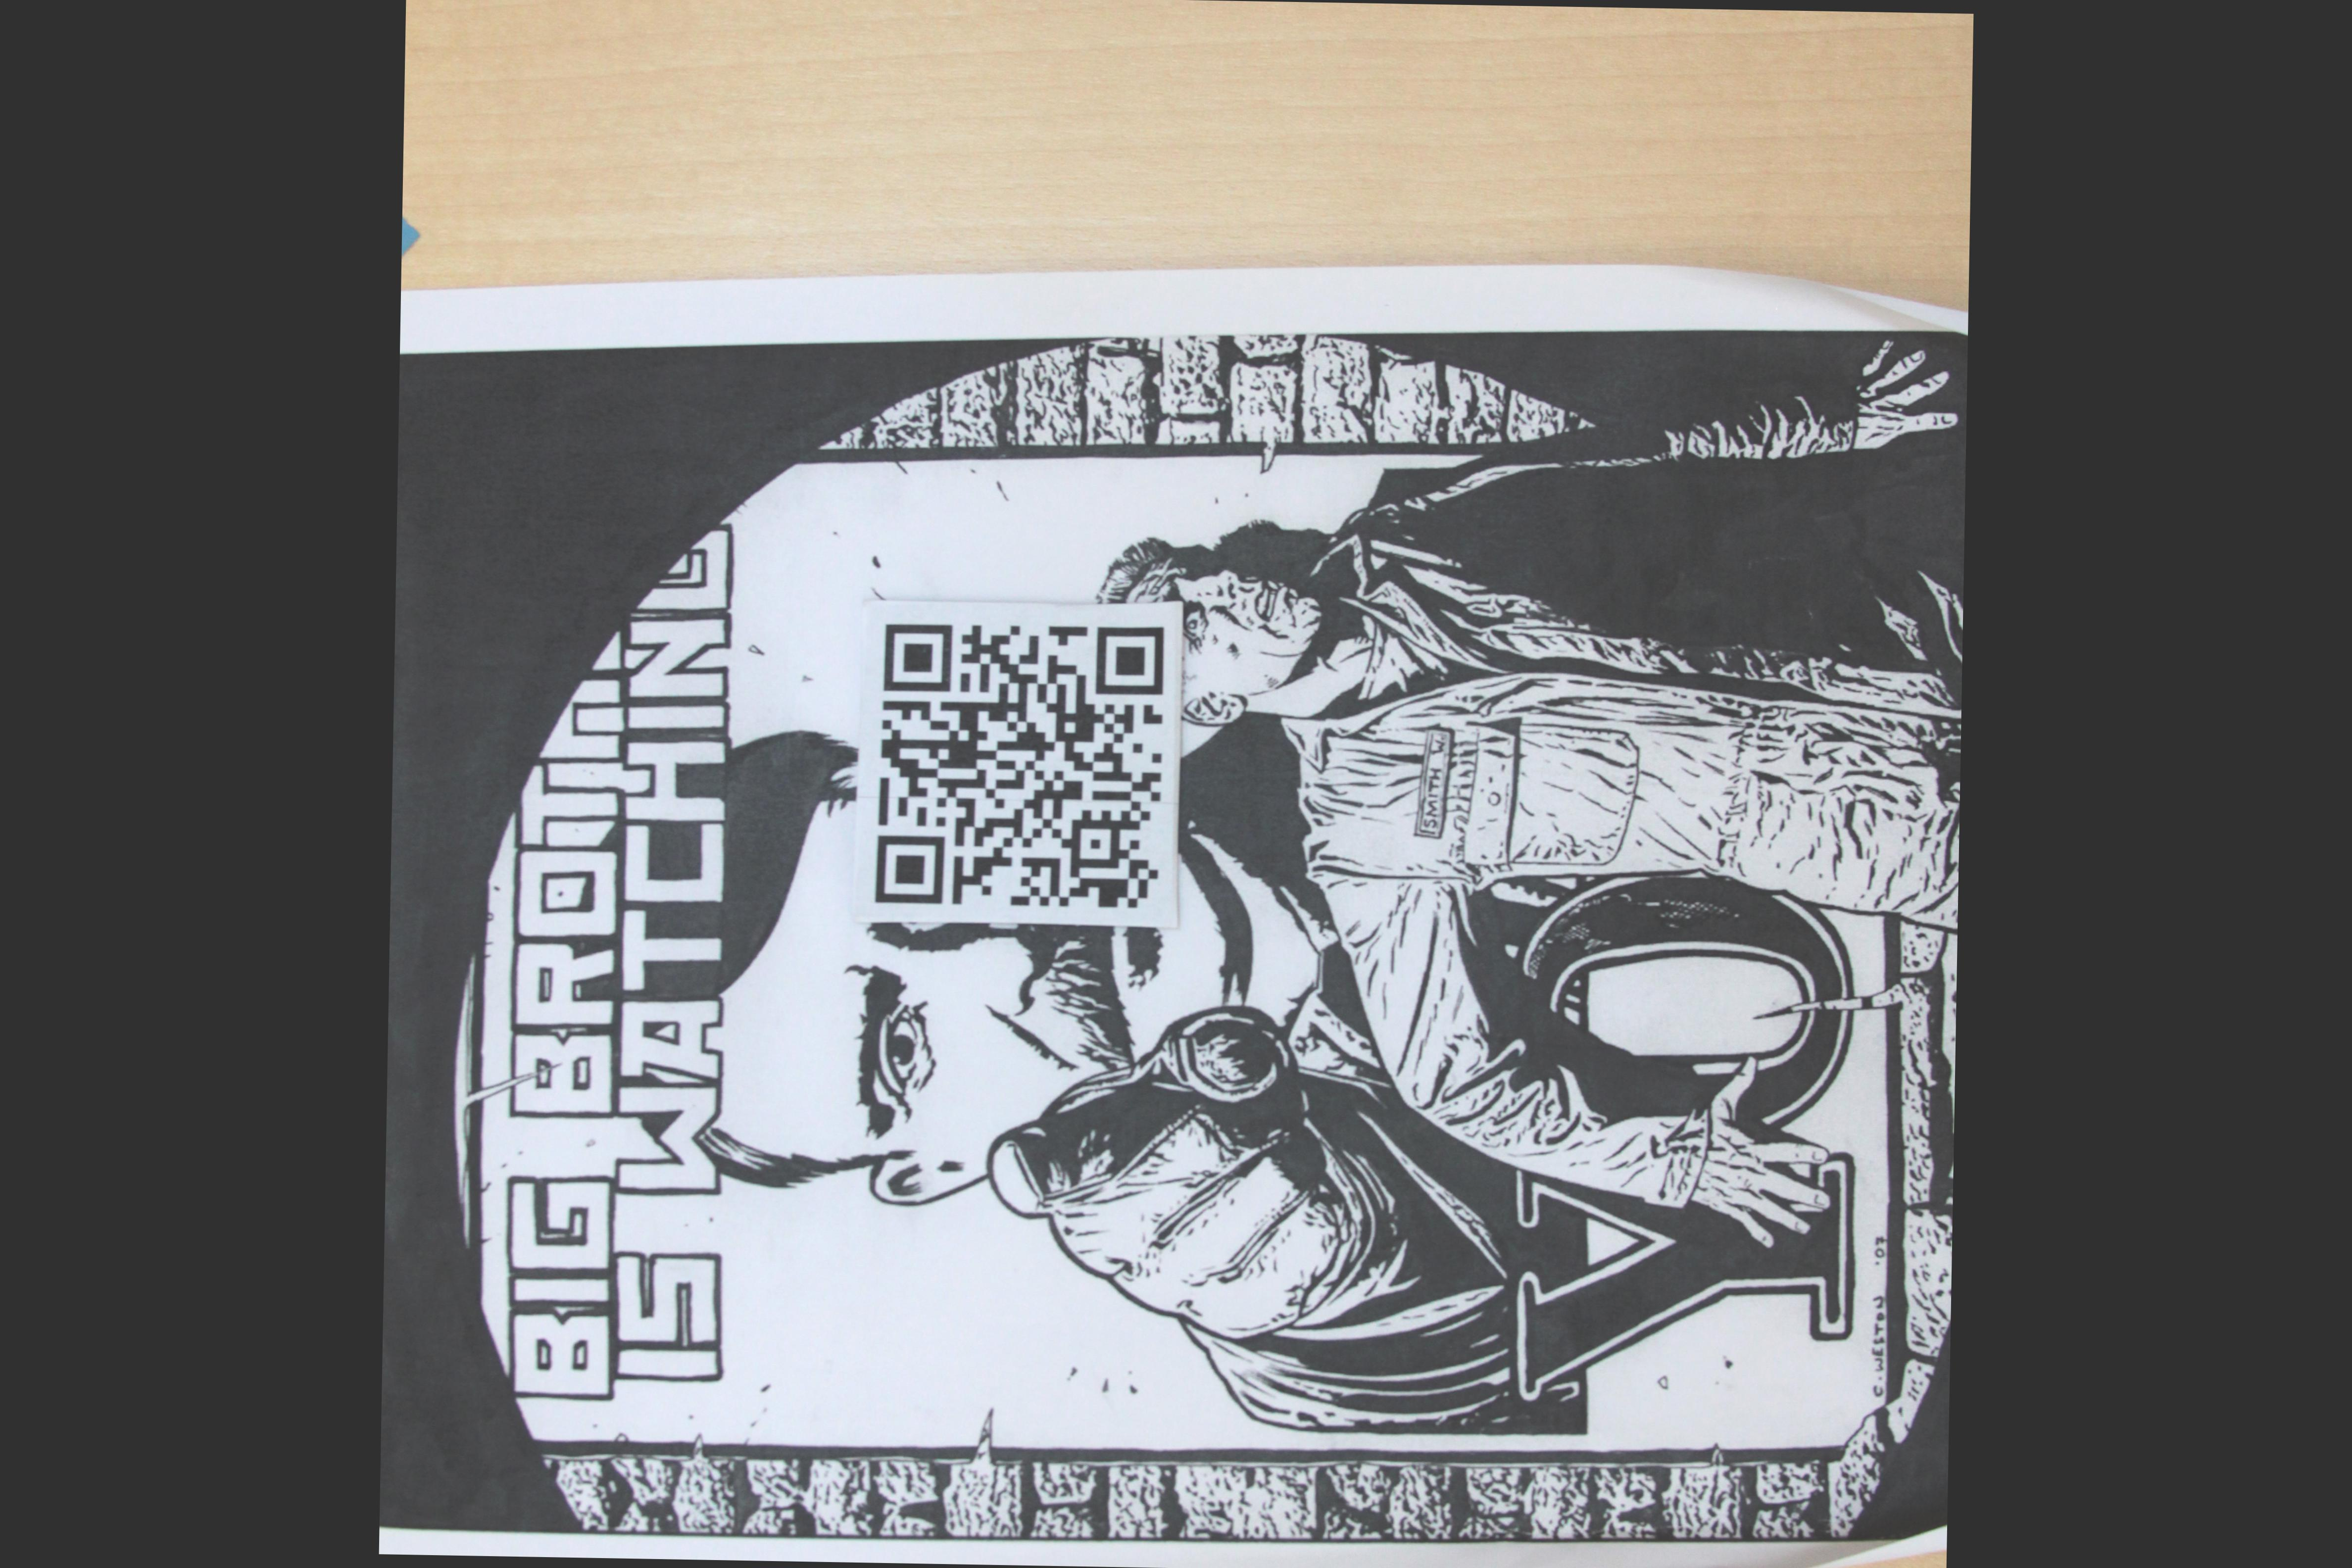QR: (870, 607, 1176, 929)
